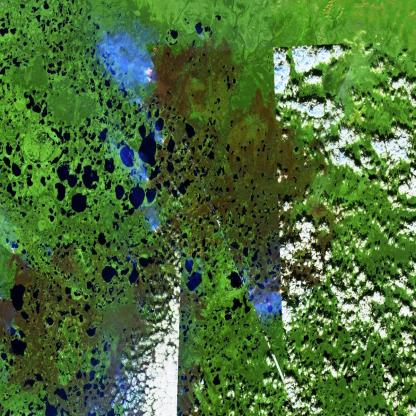fire: (131, 34, 178, 244), (238, 266, 291, 327), (1, 238, 23, 265)
